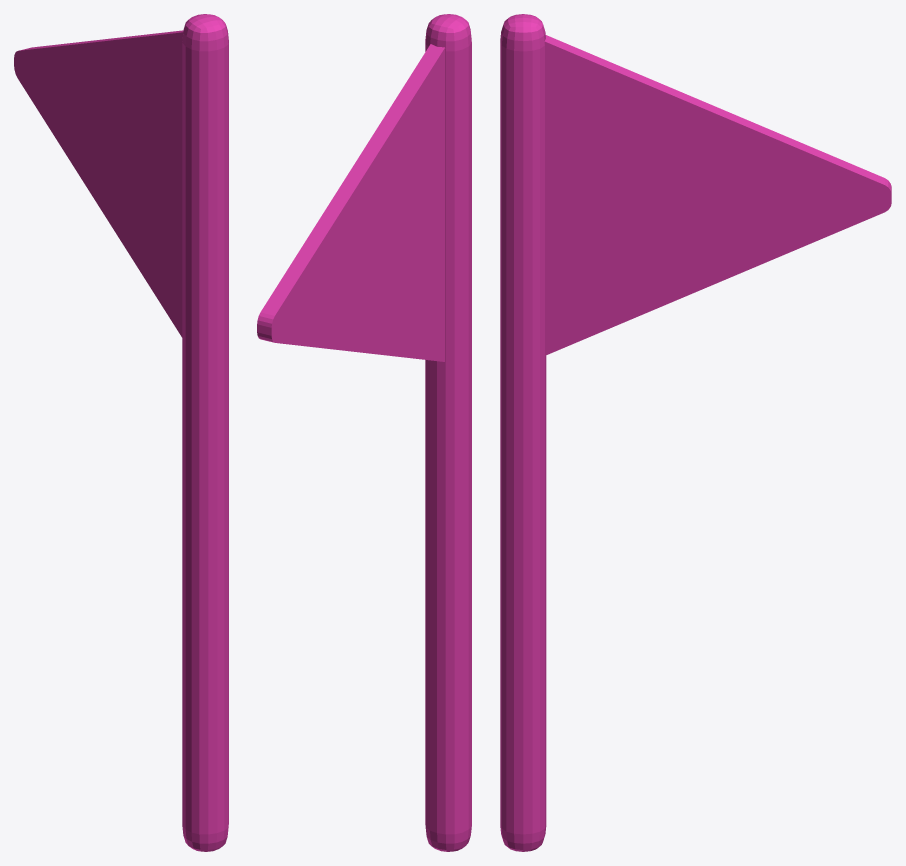
The model's file is Flag.fbx.
3 renders of one model, left to right at view 1: azimuth 30°, elevation 25°; view 2: azimuth 150°, elevation 25°; view 3: azimuth 270°, elevation 25°, orthographic.
Parts seen in each view (by area): view 1: Flag; view 2: Flag; view 3: Flag.
Part boxes in pixels (box(x1,y1,x2,y2)): Flag: box(14, 14, 228, 851); Flag: box(257, 14, 471, 851); Flag: box(500, 14, 891, 851).
Bounding box in the file's own units: 0.00252 × 0.05 × 0.0214.
